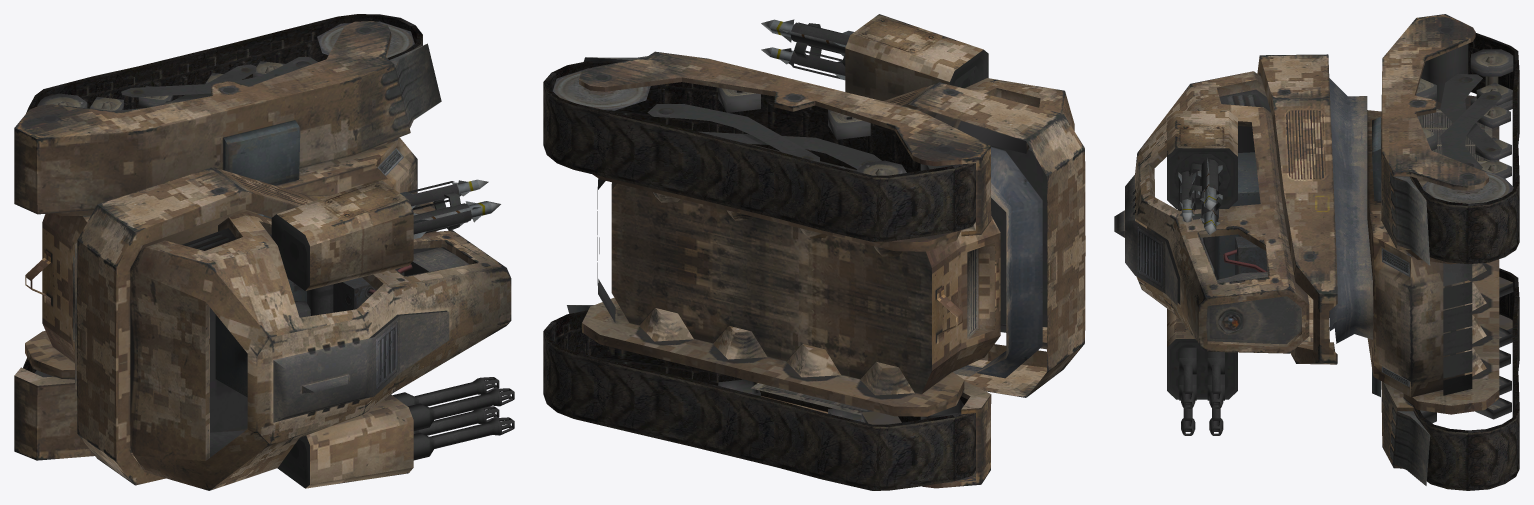
Rendered from veh_t6_drone_tank_LOD2.obj.
3 renders of one model, left to right at view 1: azimuth 30°, elevation 25°; view 2: azimuth 150°, elevation 25°; view 3: azimuth 270°, elevation 25°, orthographic. The views are drawn at different scales.
Parts seen in each view (by area): view 1: mtl_veh_t6_drone_tank, mtl_veh_t6_asd_tread_left, mtl_veh_t6_drone_tank_wheels, mtl_veh_t6_drone_tank_missile; view 2: mtl_veh_t6_drone_tank, mtl_veh_t6_asd_tread_left, mtl_veh_t6_drone_tank_wheels, mtl_veh_t6_drone_tank_missile; view 3: mtl_veh_t6_drone_tank, mtl_veh_t6_asd_tread_left, mtl_veh_t6_drone_tank_wheels, mtl_veh_t6_drone_tank_missile.
Part boxes in pixels (x1,y1,x2,y2): mtl_veh_t6_drone_tank: (14,21,514,490); mtl_veh_t6_asd_tread_left: (23,14,422,373); mtl_veh_t6_drone_tank_wheels: (34,21,414,377); mtl_veh_t6_drone_tank_missile: (400,179,500,238); mtl_veh_t6_drone_tank: (567,14,1085,488); mtl_veh_t6_asd_tread_left: (543,61,975,490); mtl_veh_t6_drone_tank_wheels: (552,68,963,424); mtl_veh_t6_drone_tank_missile: (761,19,853,79); mtl_veh_t6_drone_tank: (1114,14,1501,485); mtl_veh_t6_asd_tread_left: (1409,33,1519,490); mtl_veh_t6_drone_tank_wheels: (1416,44,1513,423); mtl_veh_t6_drone_tank_missile: (1178,158,1222,234).
Bounding box in the file's own units: 104 × 76.81 × 94.9.
